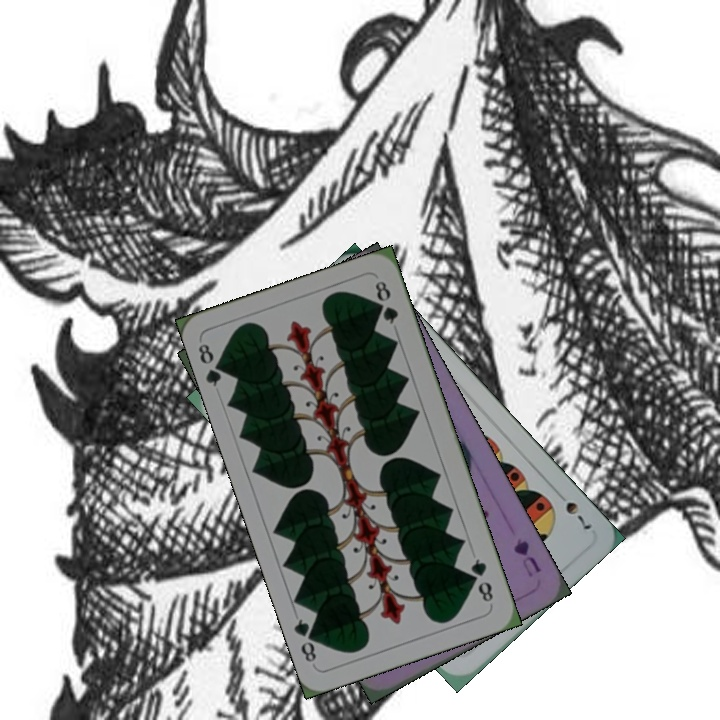G8: (194, 339, 230, 389), (466, 554, 496, 605)
GU: (509, 534, 544, 580)
S7: (551, 485, 594, 533)
